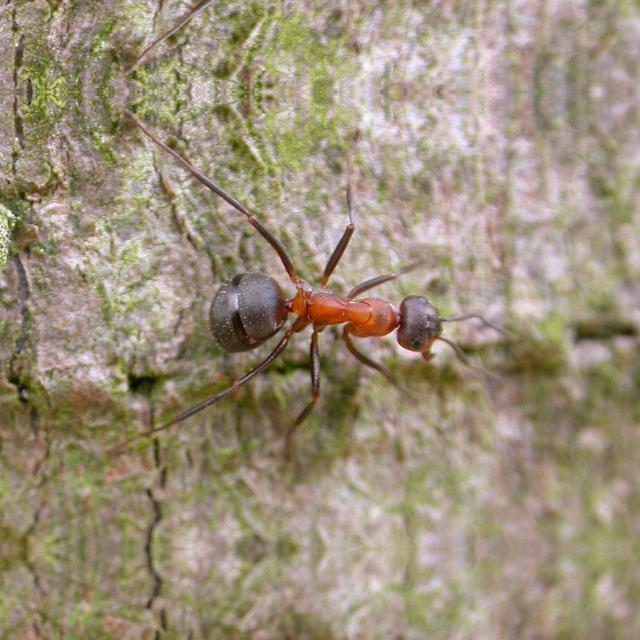Formica: (158, 200, 470, 394)
